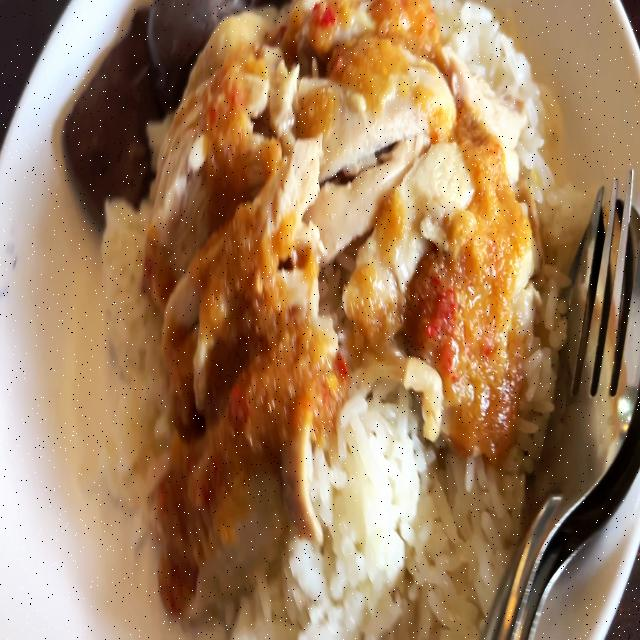boiled_chicken: (160, 8, 517, 486)
boiled_chicken_blood_jelly: (66, 4, 166, 200), (151, 0, 219, 80)
chicken_rice: (72, 0, 580, 640)
